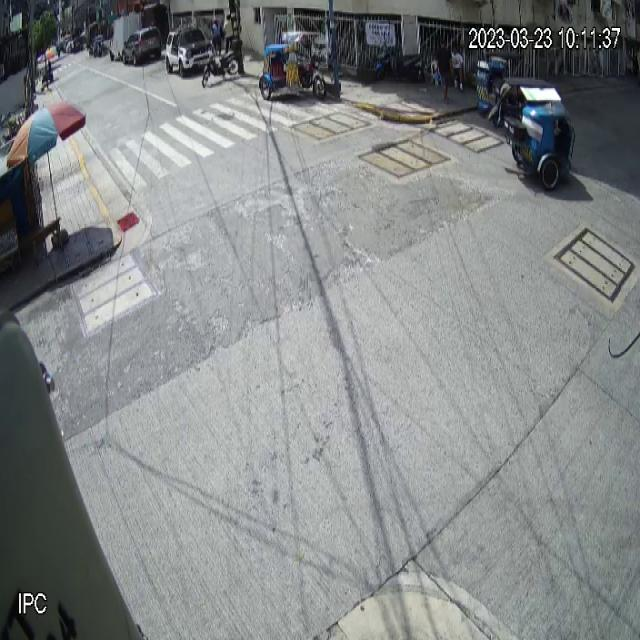Tricycle: (499, 74, 575, 192), (259, 29, 327, 101)
